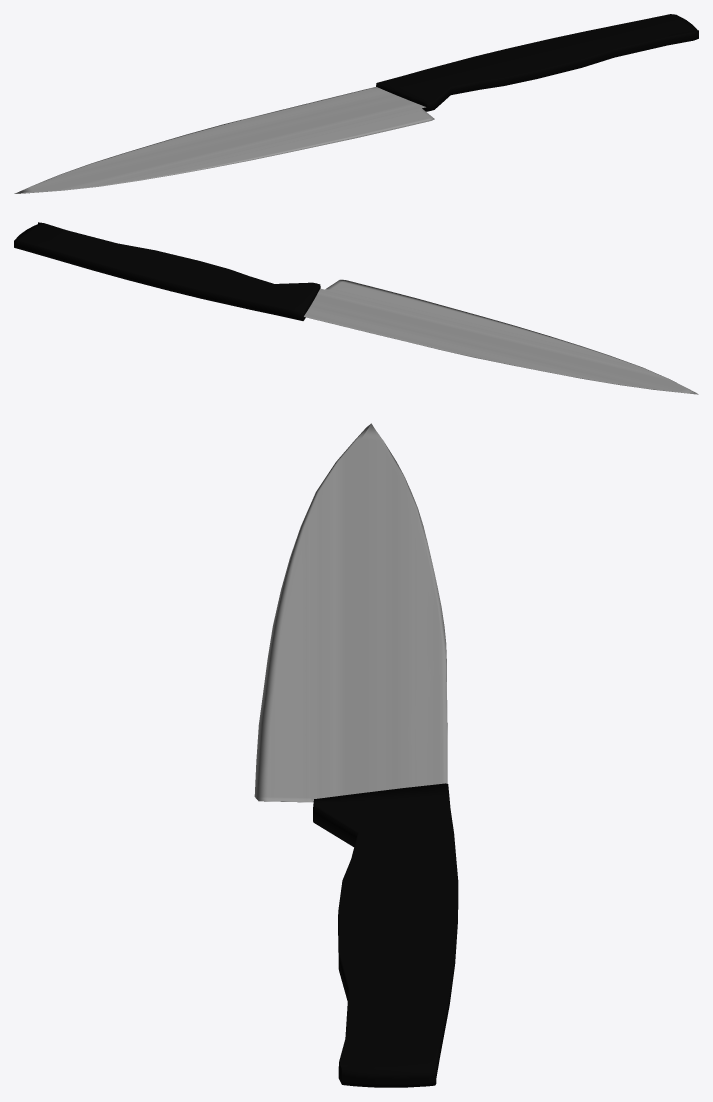
The model's file is knife3.fbx.
3 renders of one model, top to bottom at view 1: azimuth 30°, elevation 25°; view 2: azimuth 150°, elevation 25°; view 3: azimuth 270°, elevation 25°, orthographic. The views are drawn at different scales.
Visible parts, largest first — view 1: knife_set_STLU3V2.001; view 2: knife_set_STLU3V2.001; view 3: knife_set_STLU3V2.001.
Part boxes in pixels (<box>): knife_set_STLU3V2.001: <box>14,14,698,193</box>; knife_set_STLU3V2.001: <box>14,222,698,394</box>; knife_set_STLU3V2.001: <box>254,423,458,1087</box>.
Bounding box in the file's own units: 4974 × 59.98 × 653.
